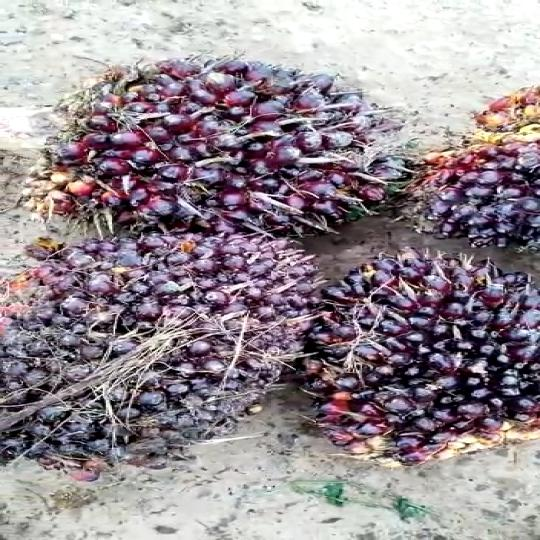kurang masak: (0, 231, 313, 473), (50, 55, 424, 242), (276, 257, 540, 469)
